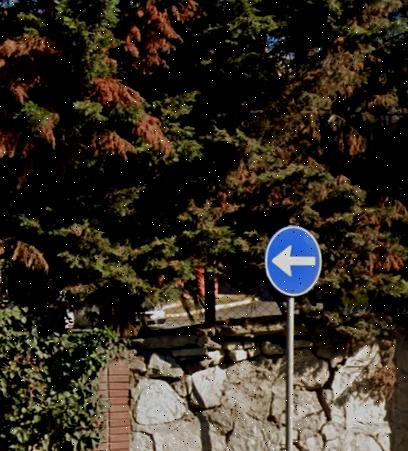turnleft: (267, 228, 320, 295)
